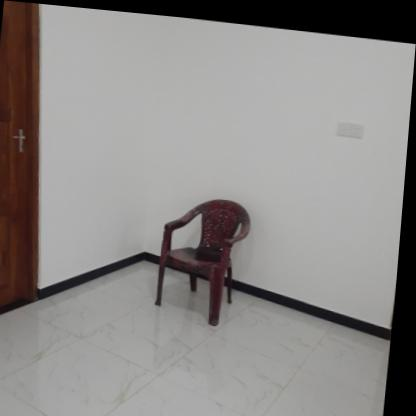Chair: (157, 189, 254, 324)
